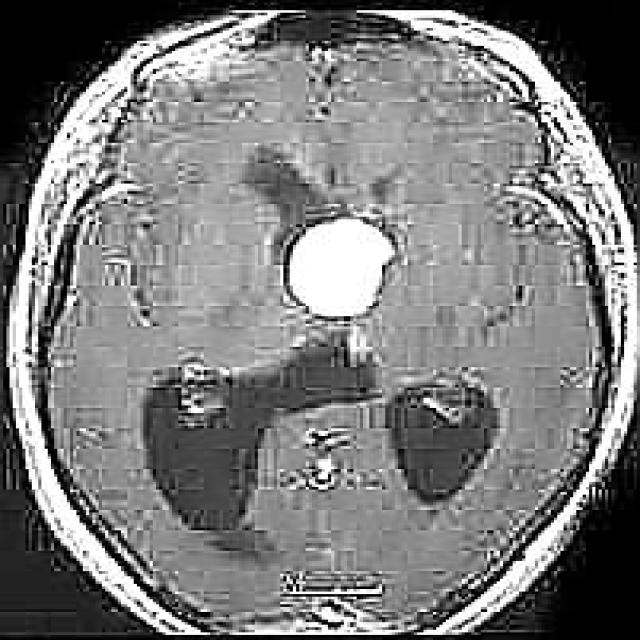Tumor-Cell: (263, 179, 417, 327)
